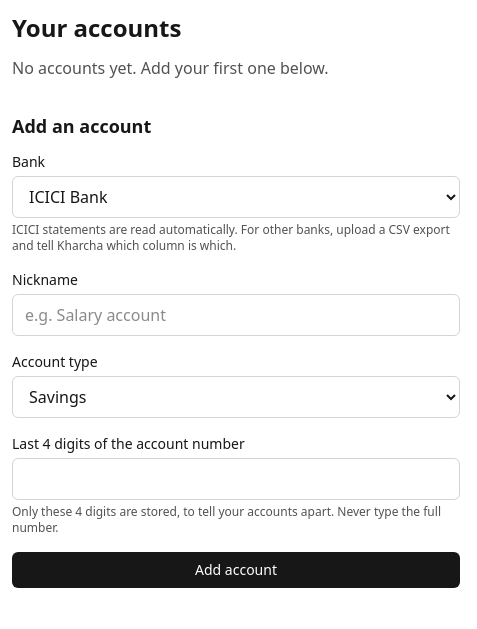
AccountsView: adding › never sends 123456789012: only exactly 4 digits leave the browser
Check: the text "No accounts yet. Add your first one below." is shown, box [12,57,328,79]
Select "ICICI Bank" in the dropdown labelled "Bank" at (236, 197), box [12,176,460,218]
Type "Rent account" into the field labelled "Nickname".
click(236, 315); type("Rent account")  # box [12,294,460,336]
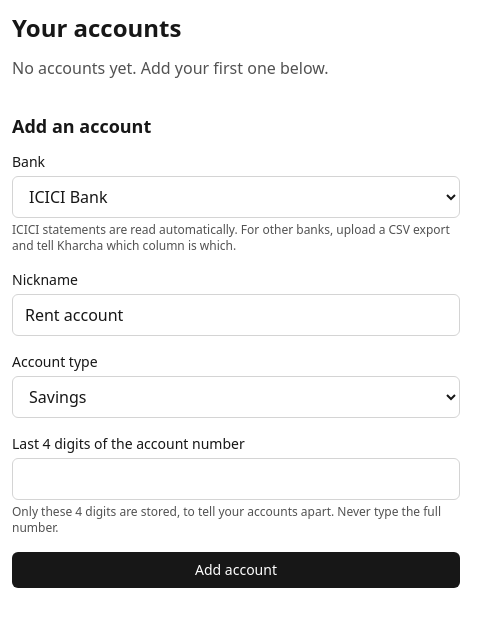
Select "Current" in the dropdown labelled "Account type" at (236, 397), box [12,376,460,418]
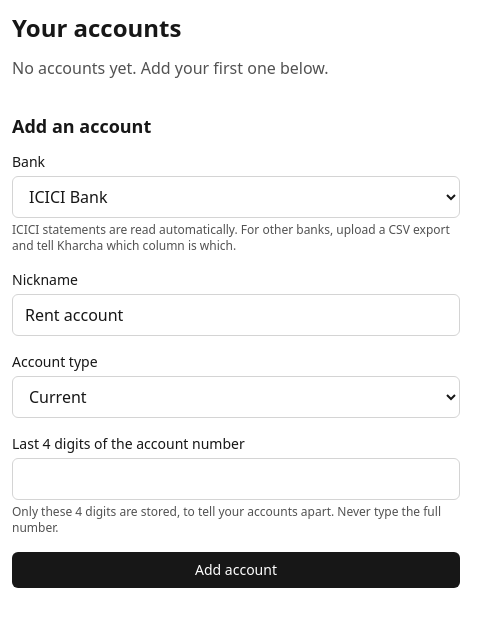
Type "123456789012" into the field labelled "Last 4 digits of the account number".
click(236, 479); type("123456789012")  # box [12,458,460,500]
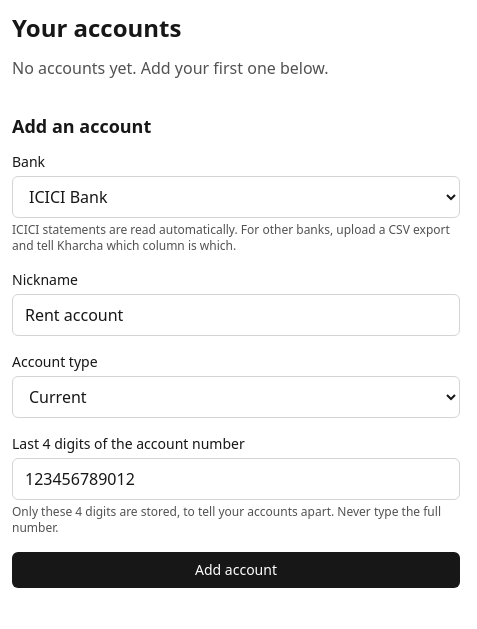
Submit the form named "Add account"
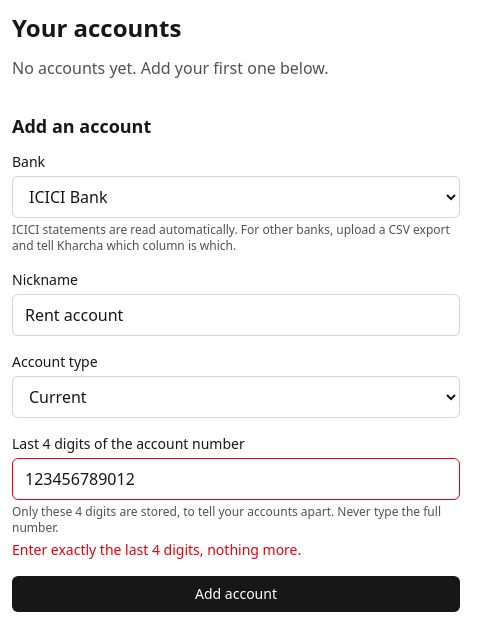
Check: the text "Enter exactly the last 4 digits, nothing more." is shown, box [12,540,301,559]
